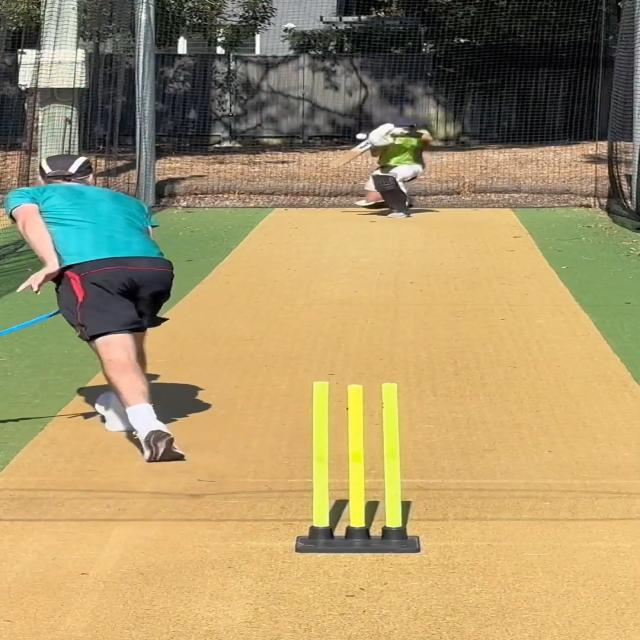ball: (355, 132, 369, 140)
stump: (295, 378, 419, 554)
